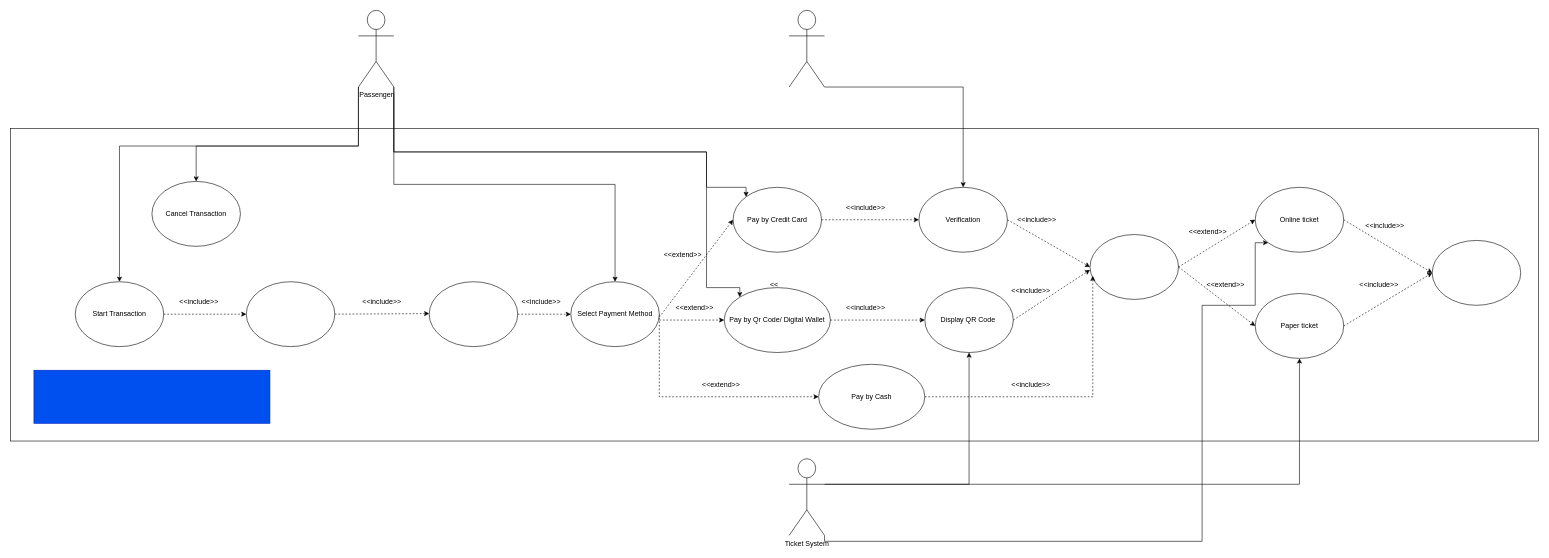
The diagram is 1549 pixels wide and 558 high, and some of its shapes have lost their labels. Here are the shapes that lost their labels. From the top down, the centre of each, then its label:
At (x=807, y=48): "Payment System".
At (x=1134, y=266): "Choosing ticket types".
At (x=1476, y=272): "Complete Transaction".
At (x=290, y=314): "Choosing Transportation".
At (x=473, y=314): "Select Destination".
At (x=151, y=396): "Automated System".
